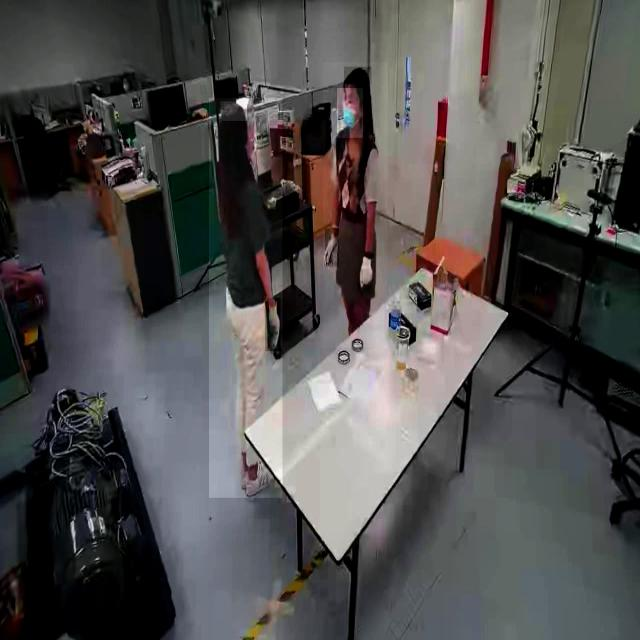face_mask: (337, 88, 363, 138)
hand_glove: (352, 246, 377, 294), (264, 298, 280, 352), (325, 228, 339, 268)
head_nohelmet: (220, 101, 247, 122), (344, 67, 372, 85)
person: (208, 98, 282, 498), (322, 62, 388, 348)
shoes: (244, 454, 280, 497)
